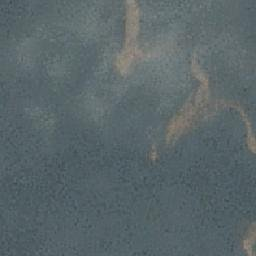debris: (113, 1, 160, 76), (191, 56, 223, 121), (166, 97, 191, 144), (238, 98, 256, 157), (239, 219, 255, 256), (146, 145, 159, 163)
